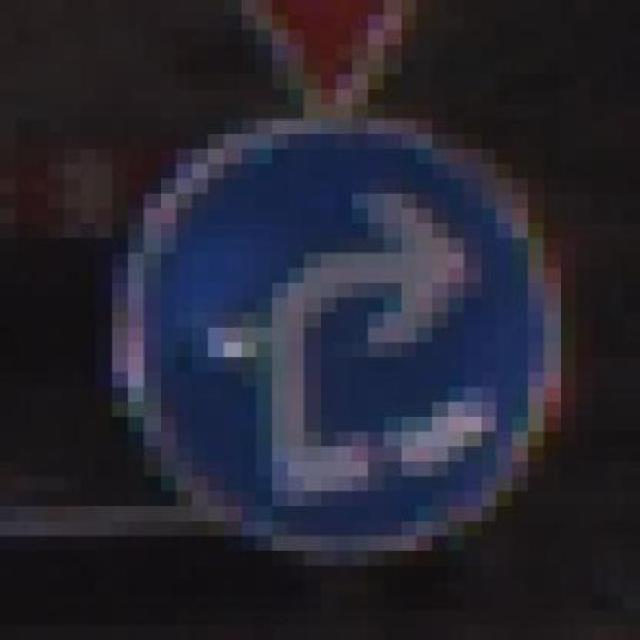Turn right ahead: (96, 120, 609, 566)
